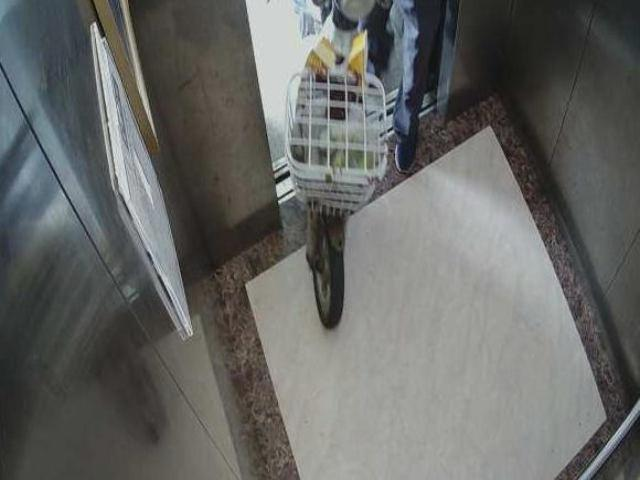emotor: (271, 4, 402, 332)
